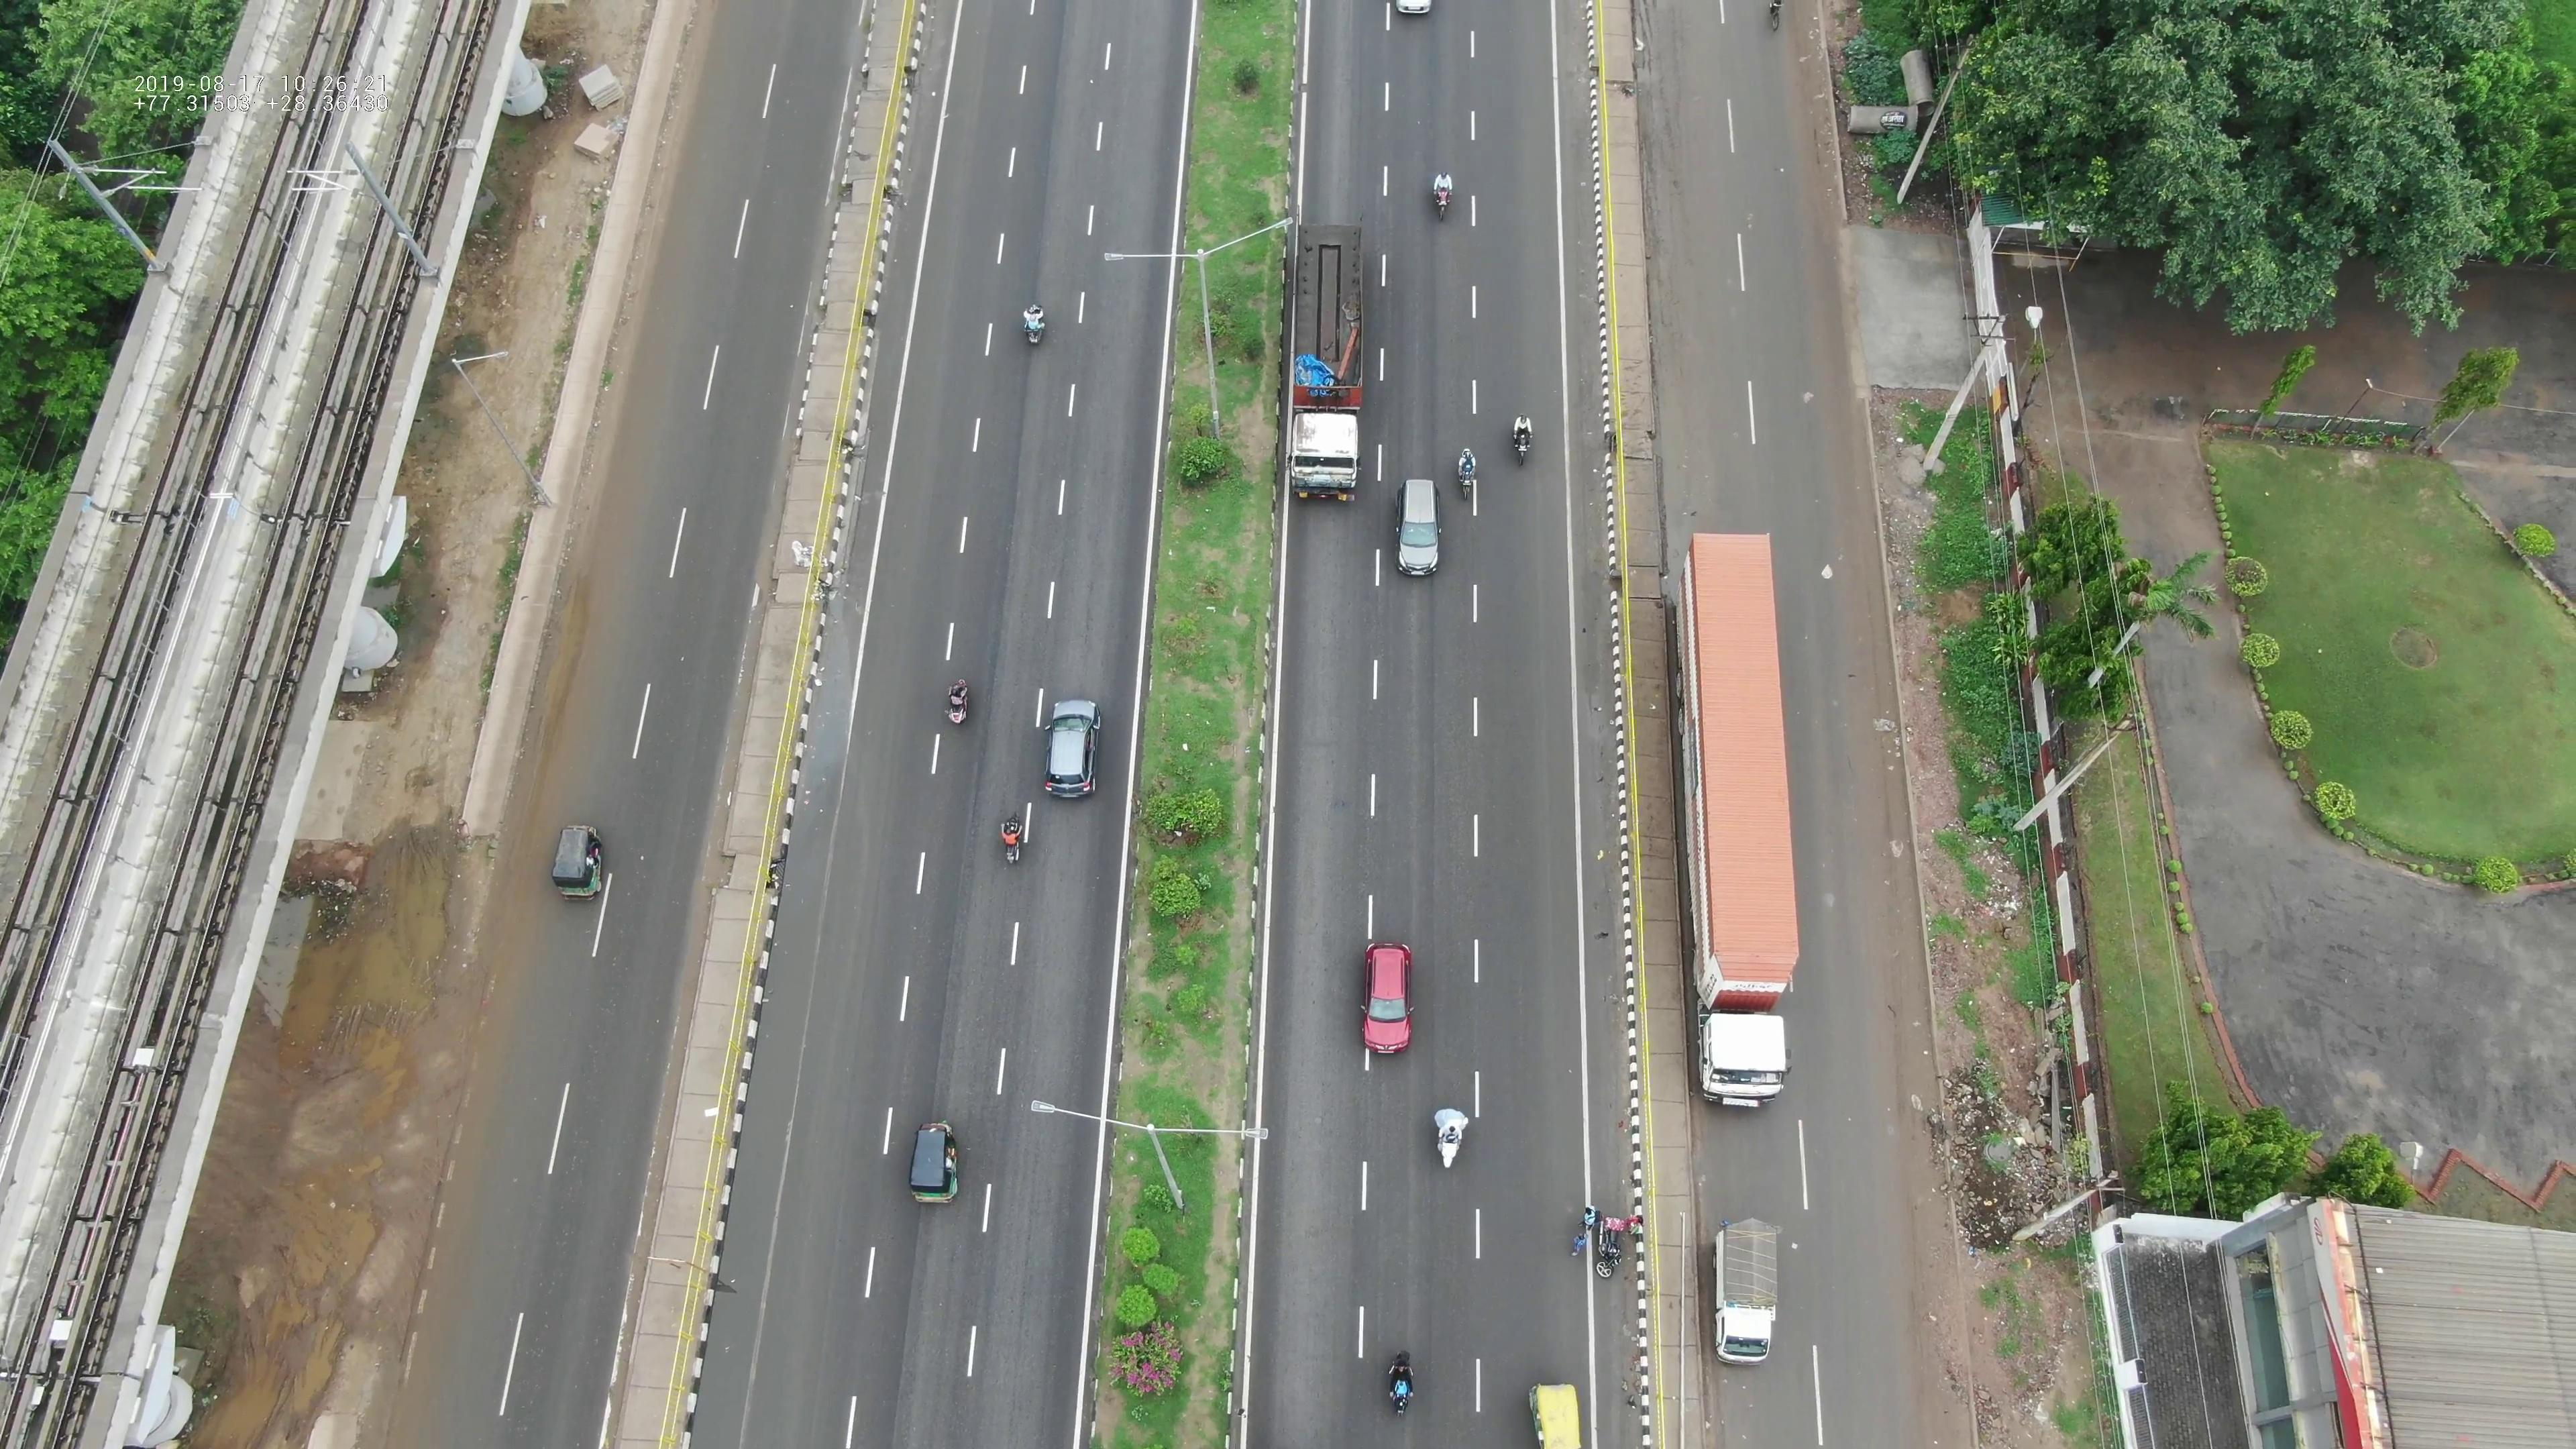Muddy_road: (1842, 874, 1937, 1210), (1806, 531, 1897, 855), (1651, 186, 1709, 499), (527, 598, 600, 801), (1789, 27, 1851, 216), (1644, 16, 1700, 161)
Waterlogging: (805, 625, 865, 794)
